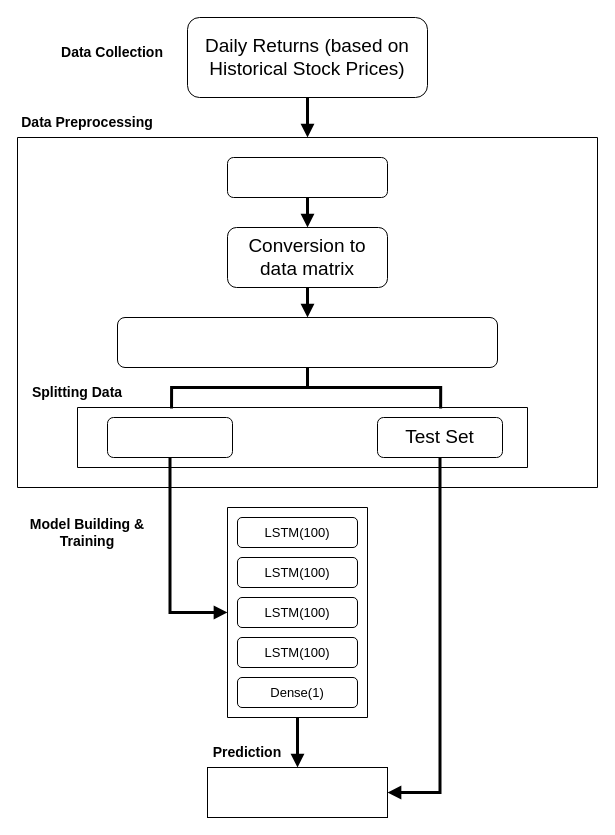
Some shapes in this 615 by 835 pixel diagram are drawn without their labels. The centre of each missing label's shape, as x and y in pixels:
"Applying sliding window- 30 Time steps" belongs at (307,342).
"Evaluation" belongs at (297,792).
"Scaling ( if needed )" belongs at (307,177).
"Train Set" belongs at (169,437).
